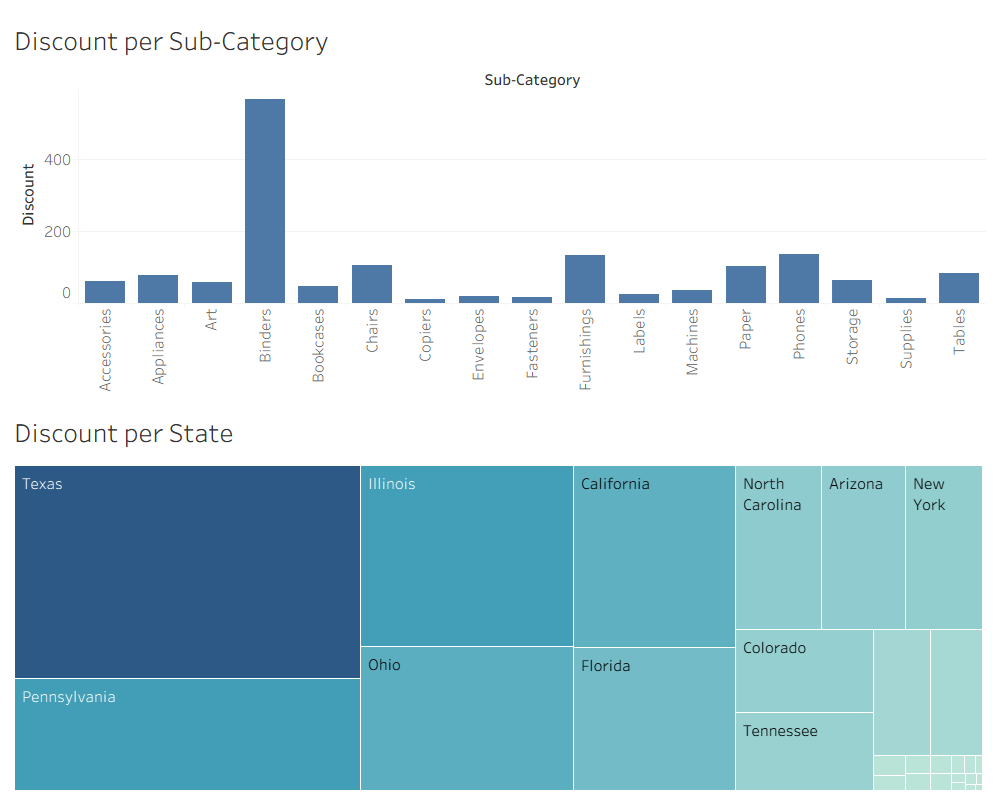

The dashboard page shown, as its layout file describes it:
{"tool":"tableau","page":{"name":"Discount Performance","canvas":[1000,800],"ordinal":0},"visuals":[{"type":"worksheet","title":"Discount per Sub-Category","mark":"Automatic","rows":["Discount"],"cols":["Sub-Category"],"box":[8,8,984,392]},{"type":"worksheet","title":"Discount per State","mark":"Automatic","box":[8,400,984,392]}]}

Visuals, with their boxes in screenshot pixels (x1, y1, x2, y2), scaled from the page's 1000x800 canvas onto the 996x794 screenshot:
"Discount per Sub-Category" worksheet: bbox(8, 8, 988, 397)
"Discount per State" worksheet: bbox(8, 397, 988, 786)
